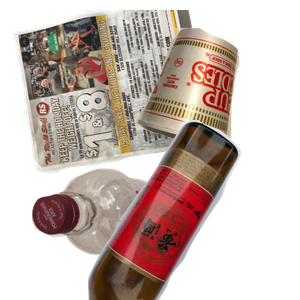glass: (85, 120, 300, 300)
paper: (10, 10, 210, 175)
plastic: (29, 166, 183, 300)
trash: (133, 25, 300, 167)
